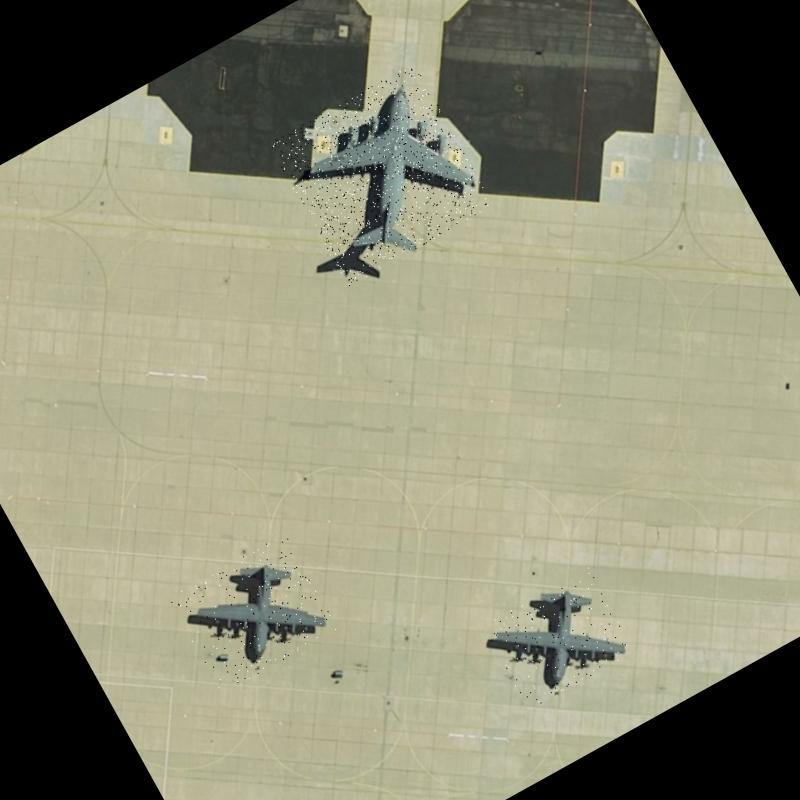A2: (167, 532, 338, 694), (481, 566, 635, 710)
A3: (268, 62, 494, 286)
